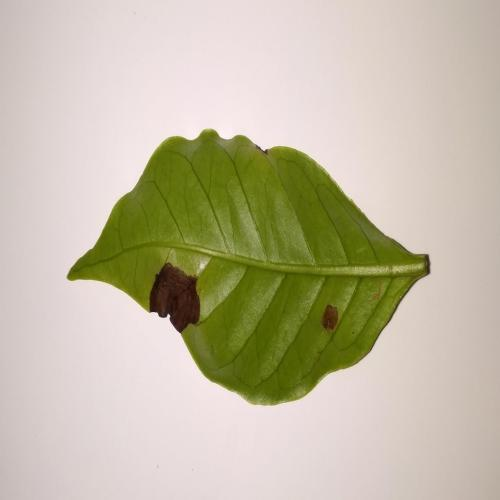miner: (149, 263, 200, 334)
